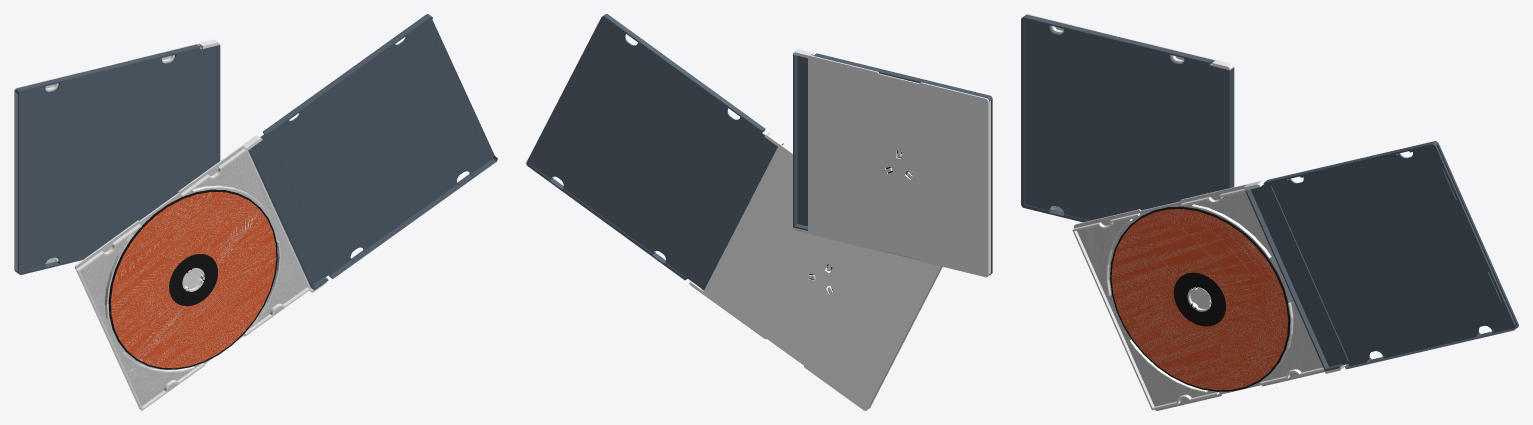
3 renders of one model, left to right at view 1: azimuth 30°, elevation 25°; view 2: azimuth 150°, elevation 25°; view 3: azimuth 330°, elevation 25°, orthographic. The views are drawn at different scales.
Visible parts, largest first — view 1: cd; view 2: cd; view 3: cd.
Part boxes in pixels (<box>): cd: <box>14,14,497,410</box>; cd: <box>526,14,992,410</box>; cd: <box>1021,14,1518,410</box>.
Size of the model in its own units: 13.27 by 9.35 by 0.568.
